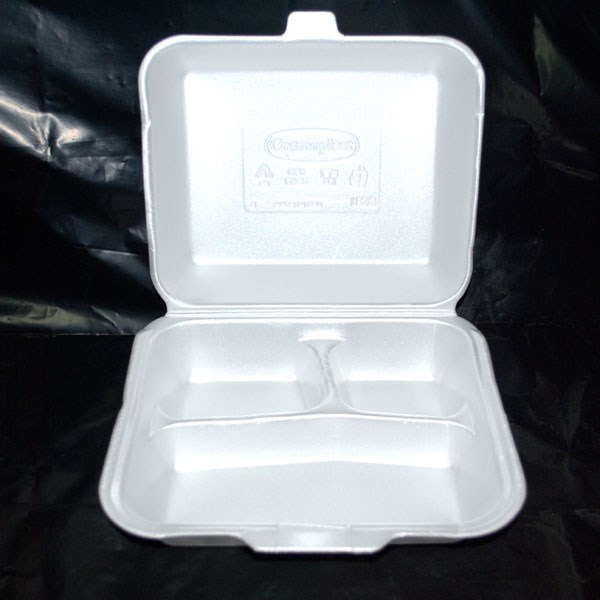Foam Box: (92, 4, 533, 565)
